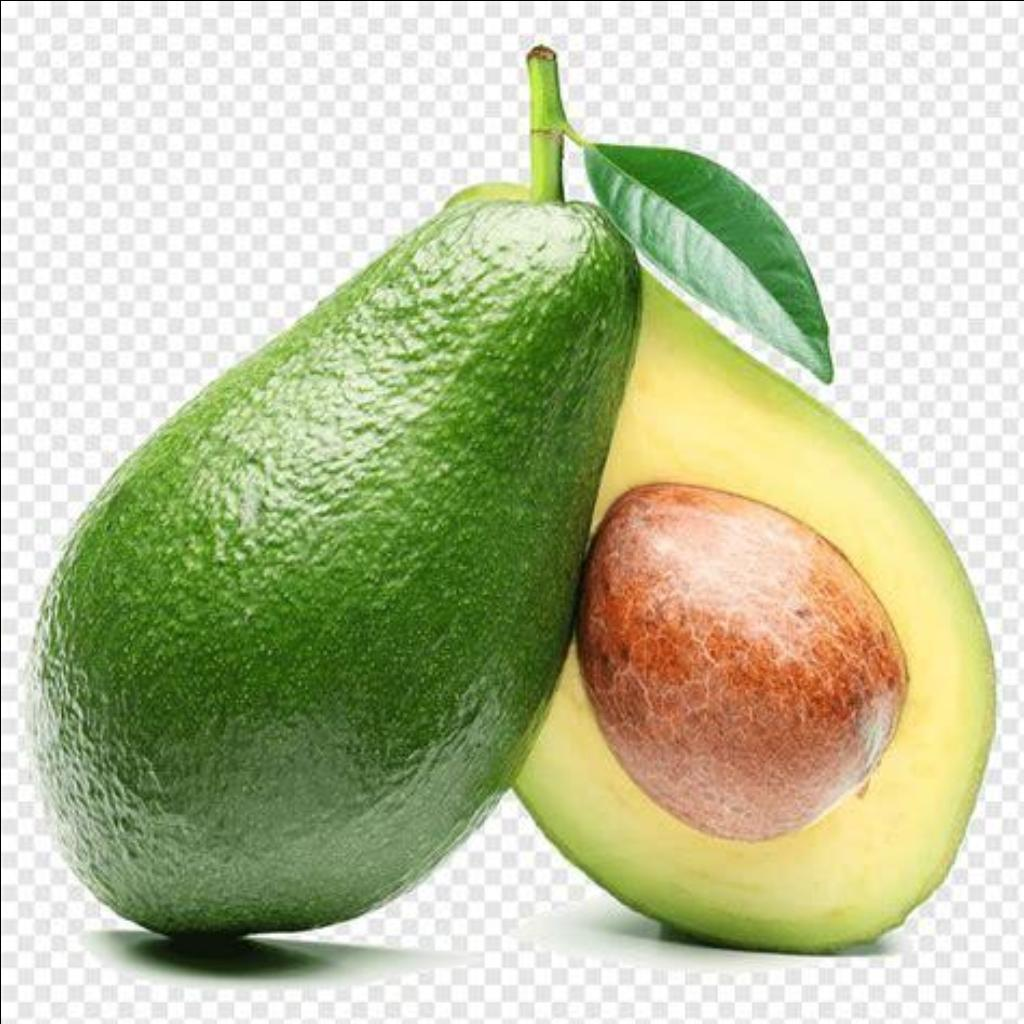Healthy: (68, 168, 990, 936)
